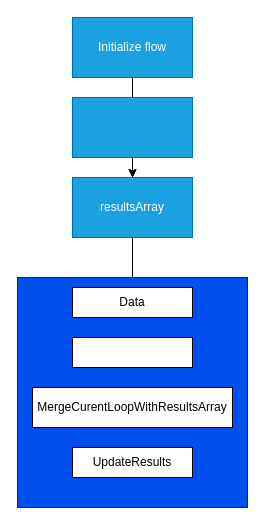
This 265x525 diagram has some shape labels left out. The shapes that lost their labels are listed below. From the top down, each one's centre as x and y in pixels, then its label:
(132,127): SkipToken
(132,352): UpdateSkipToken
